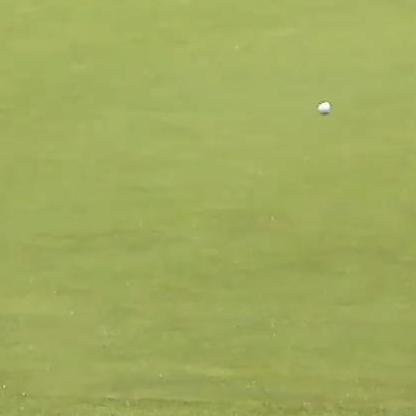golfball: (314, 99, 329, 115)
